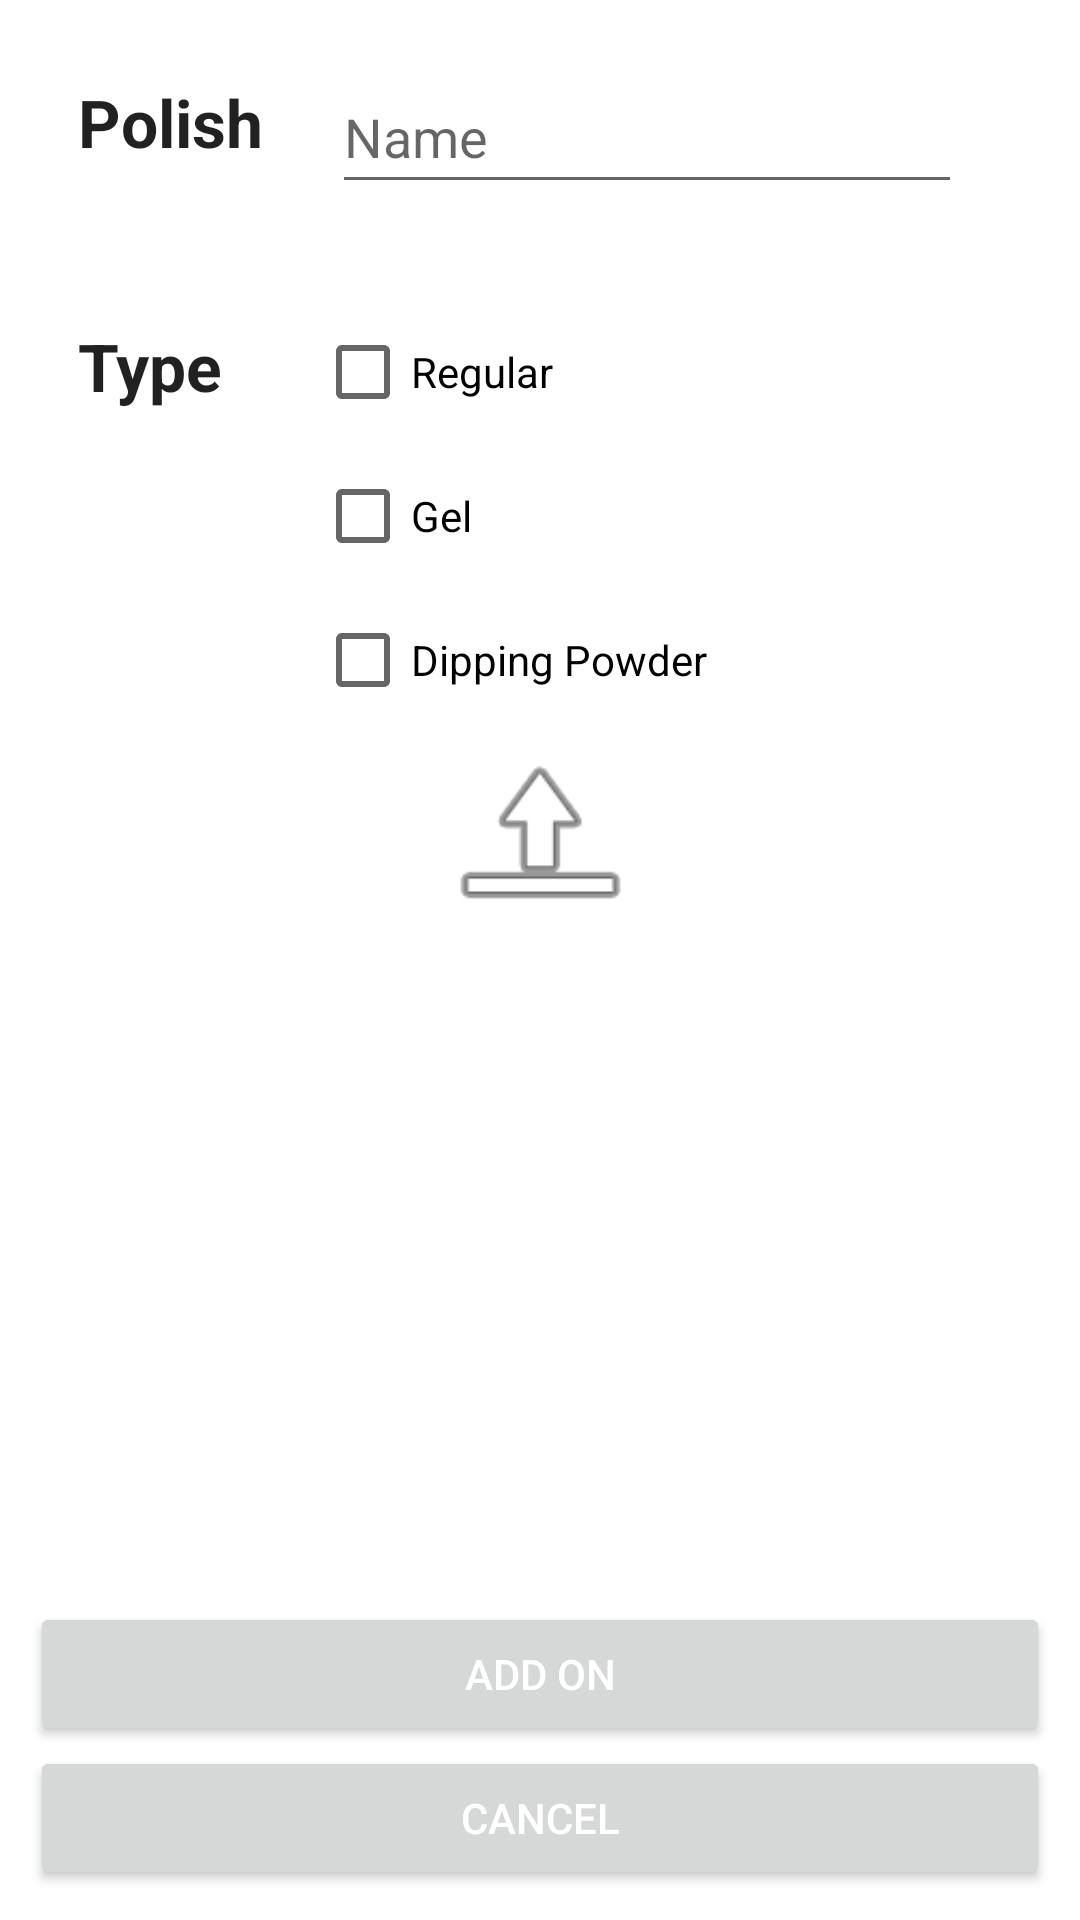

Icons on this 1080×1920 Android screen, each with the point to tap as (x=x, y=y):
upload: (x=540, y=832)
